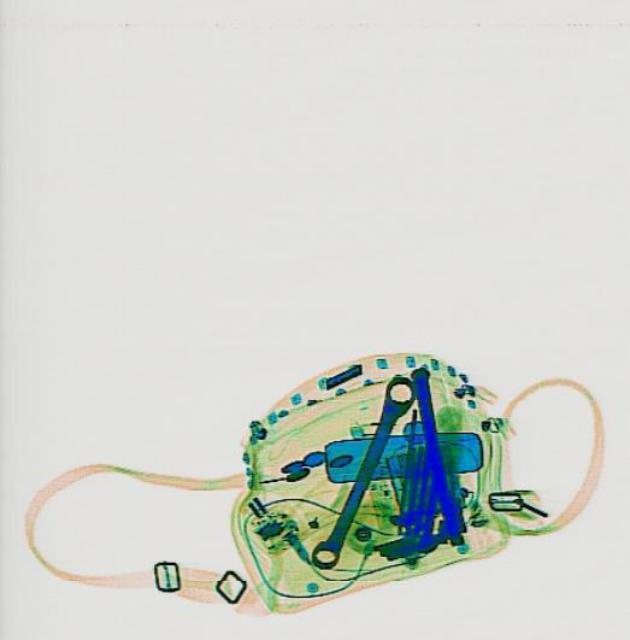Wrench: (302, 370, 420, 572)
